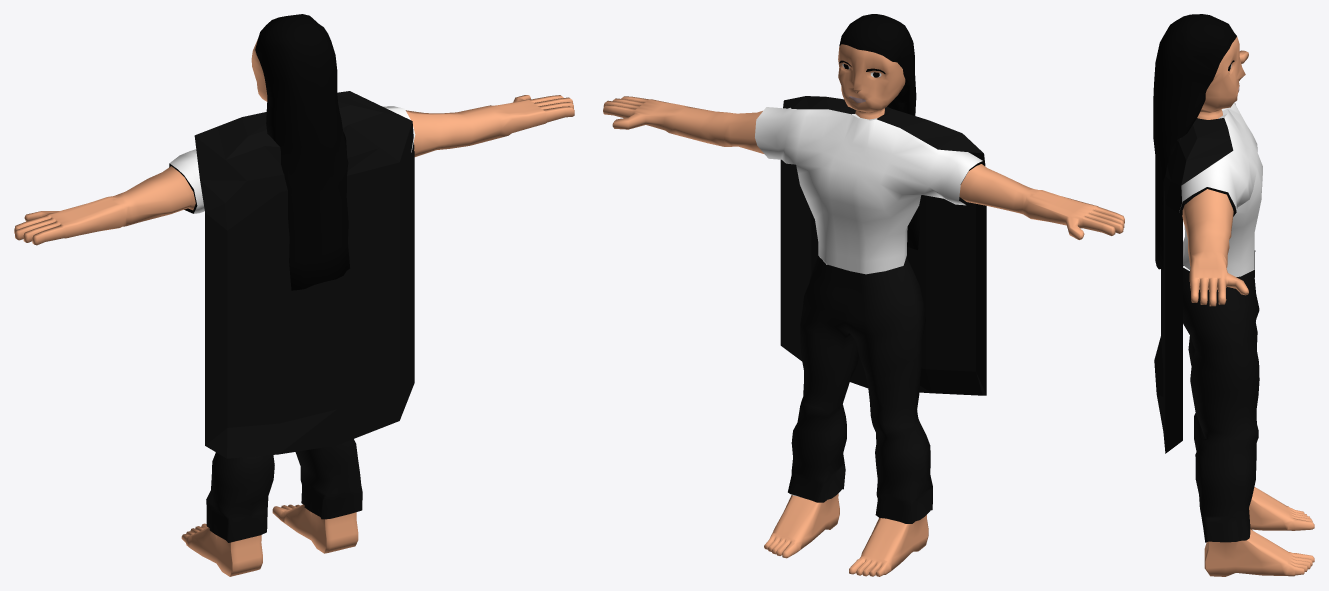
Rendered from character unwrapped.fbx.
3 views of the same model, side by side, from view 1: azimuth 30°, elevation 25°; view 2: azimuth 150°, elevation 25°; view 3: azimuth 270°, elevation 25° (orthographic). The views are drawn at different scales.
Visible parts, largest first — view 1: Box002; view 2: Box002; view 3: Box002.
Boxes of the visible parts, x1,y1,x2,y2 form: Box002: (14,14,574,576); Box002: (603,14,1124,576); Box002: (1153,14,1314,576).
Size of the model in its own units: 45.3 by 42.66 by 11.83.
